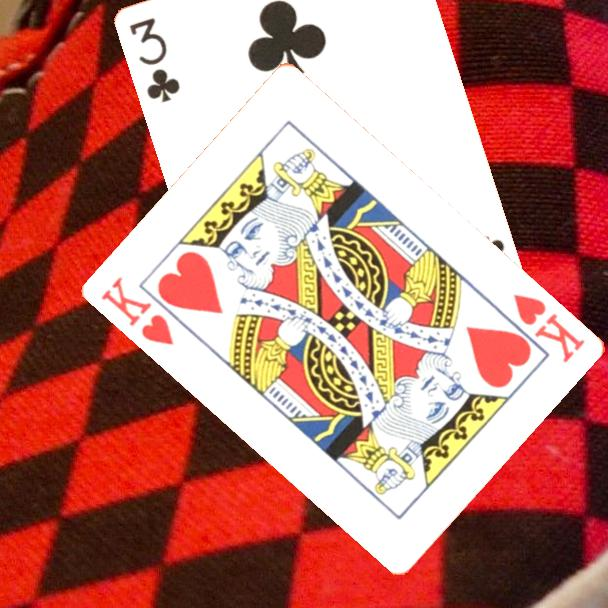c03: (126, 14, 184, 106)
h13: (510, 290, 589, 366), (99, 273, 178, 349)
